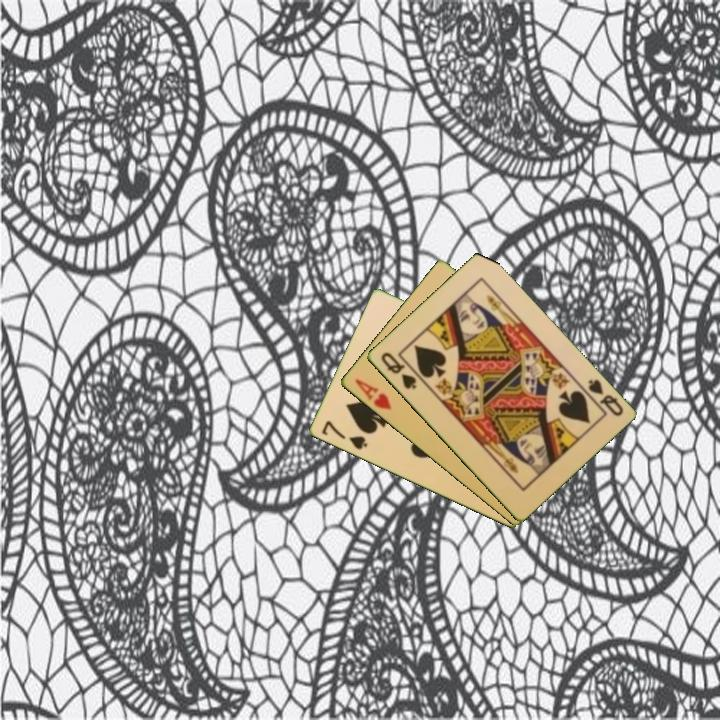7s: (318, 417, 370, 453)
Ah: (351, 375, 394, 413)
Qs: (377, 348, 419, 392), (584, 375, 626, 419)
